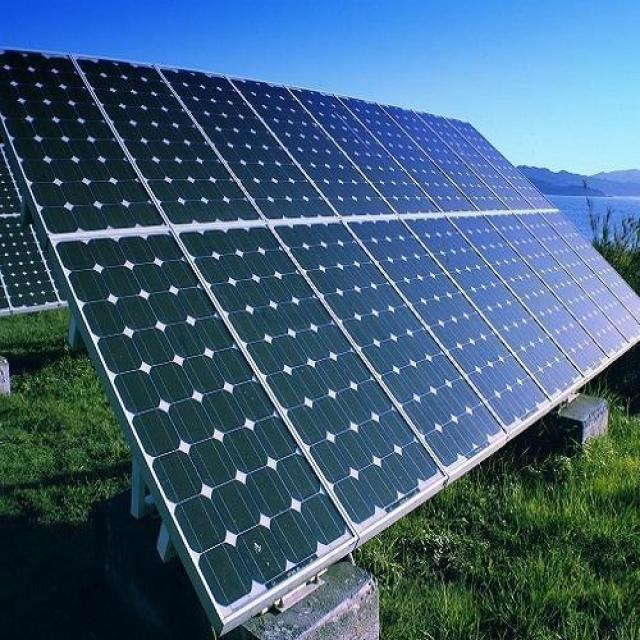clean-solar-panel: (0, 51, 640, 634)
